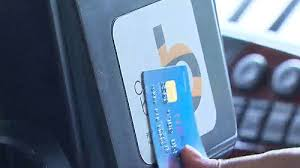terminal: (46, 1, 250, 168)
